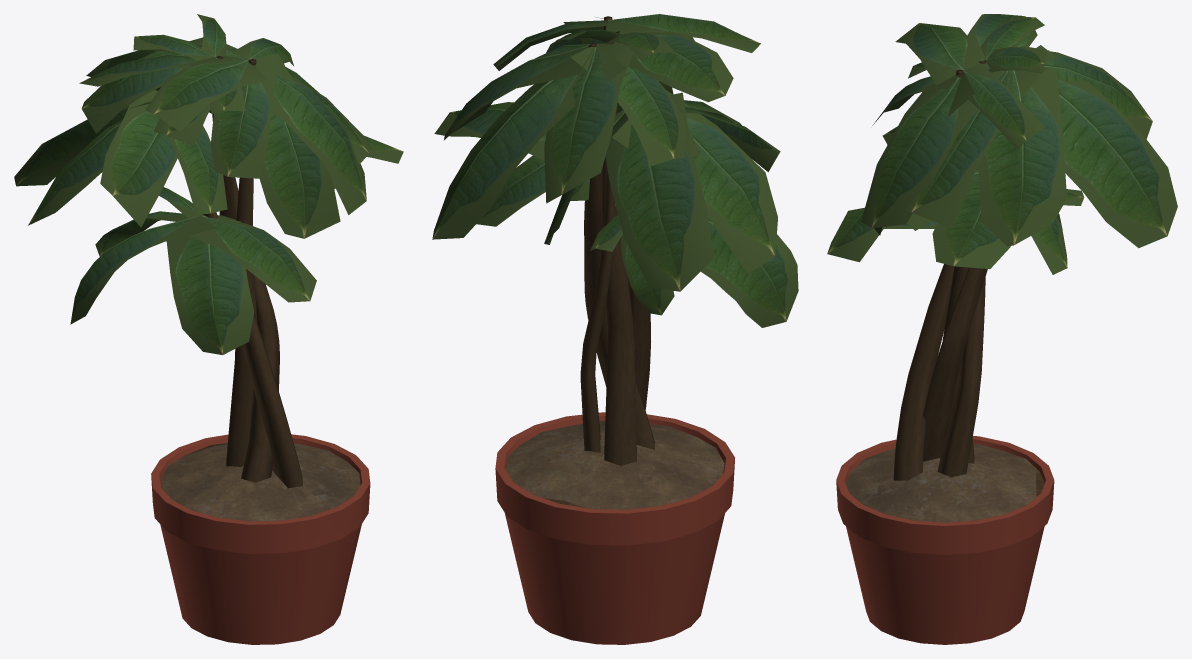
File: plantearbre2.glb
3 views of the same model, side by side, from view 1: azimuth 30°, elevation 25°; view 2: azimuth 150°, elevation 25°; view 3: azimuth 270°, elevation 25° (orthographic). The views are drawn at different scales.
Parts seen in each view (by area): view 1: eb_house_plant_03; view 2: eb_house_plant_03; view 3: eb_house_plant_03.
Boxes of the visible parts, bbox=[...] form: eb_house_plant_03: bbox=[14, 14, 403, 644]; eb_house_plant_03: bbox=[432, 14, 798, 644]; eb_house_plant_03: bbox=[827, 14, 1177, 644].
Size of the model in its own units: 9.36 by 14.96 by 8.53.
Materials: 1 (1 with a texture image).
